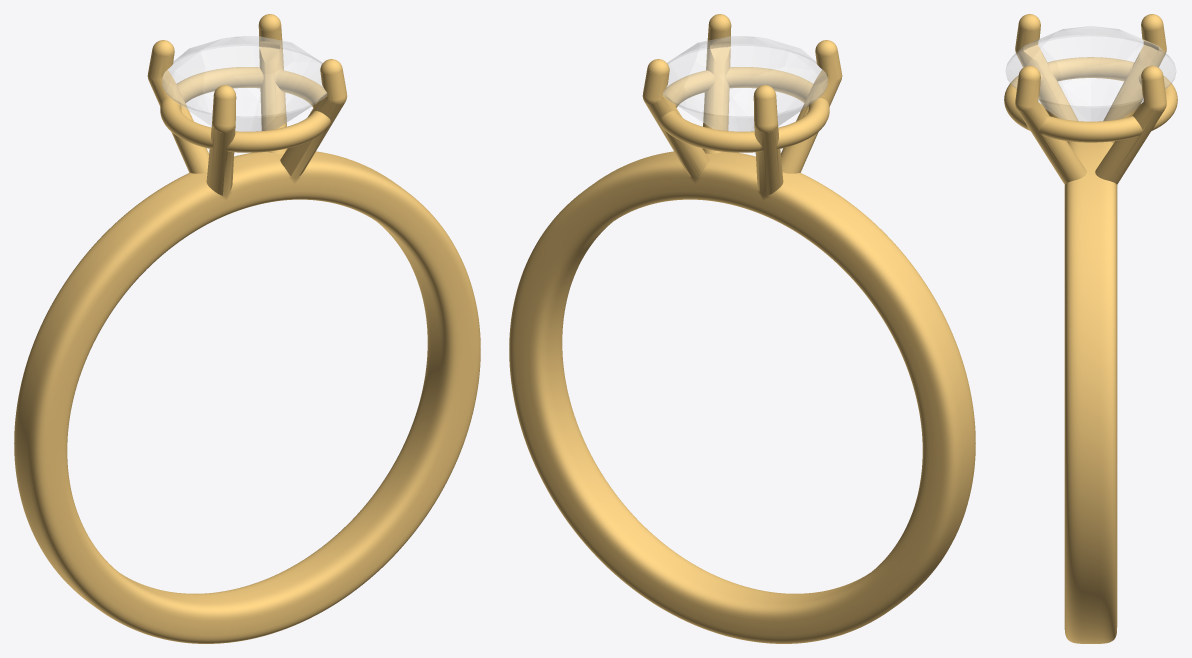
The model's file is solitario.glb.
3 renders of one model, left to right at view 1: azimuth 30°, elevation 25°; view 2: azimuth 150°, elevation 25°; view 3: azimuth 270°, elevation 25°, orthographic.
Parts seen in each view (by area): view 1: Anillo_metal, Diamante_6.5mm; view 2: Anillo_metal, Diamante_6.5mm; view 3: Anillo_metal, Diamante_6.5mm.
Part boxes in pixels (box(x1,y1,x2,y2)): Anillo_metal: box(14, 14, 480, 643); Diamante_6.5mm: box(162, 36, 326, 131); Anillo_metal: box(509, 14, 975, 643); Diamante_6.5mm: box(663, 36, 827, 131); Anillo_metal: box(1004, 14, 1177, 643); Diamante_6.5mm: box(1006, 26, 1175, 121).
Bounding box in the file's own units: 0.0197 × 0.0243 × 0.00662.
